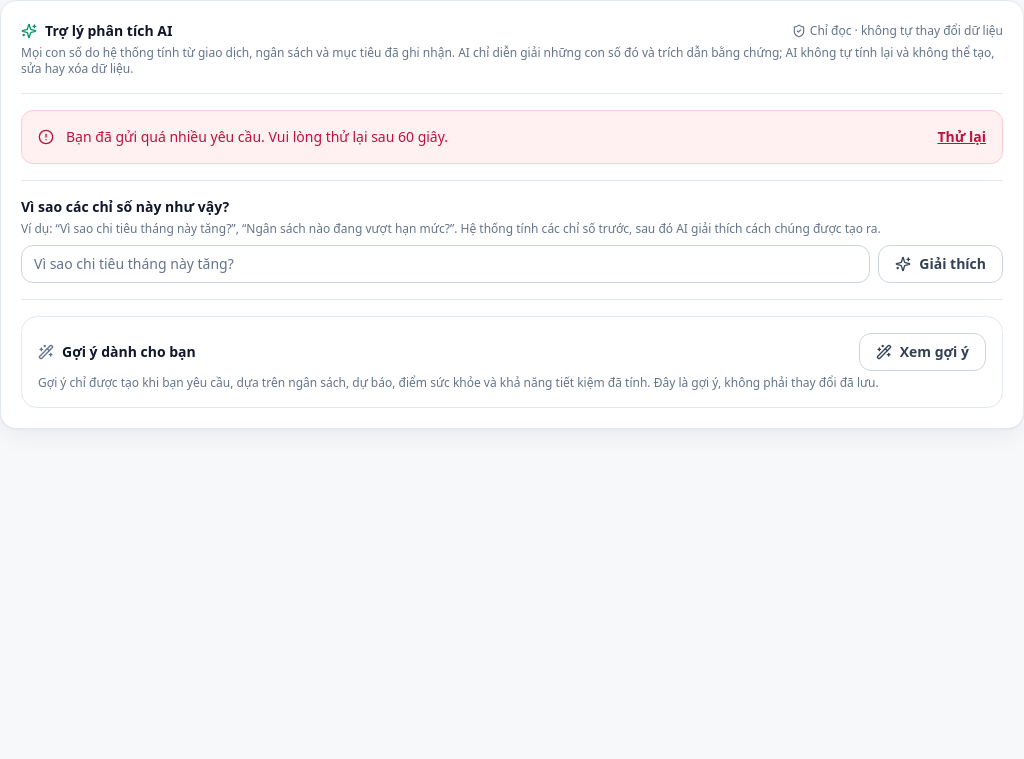
it: AnalyticsAiPanel — summary › explains a rate limit instead of showing the raw 429
The width and height of the screenshot is (1024, 759).
Expected: the text "Bạn đã gửi quá nhiều yêu cầu. Vui lòng thử lại sau 60 giây." is shown, [66, 127, 448, 146]
Click the button "Thử lại". click: coordinates (962, 137)
box: [937, 127, 986, 147]
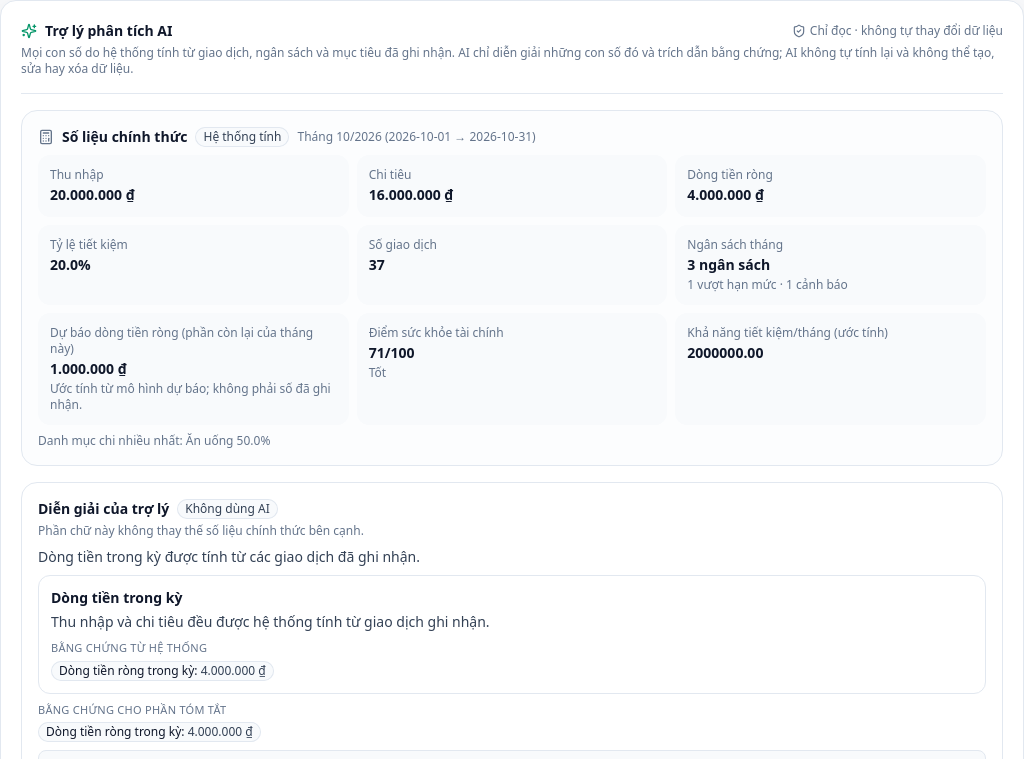
Expected: the text "Dòng tiền trong kỳ được tính từ các giao dịch đã ghi nhận." is shown, [38, 547, 420, 566]
